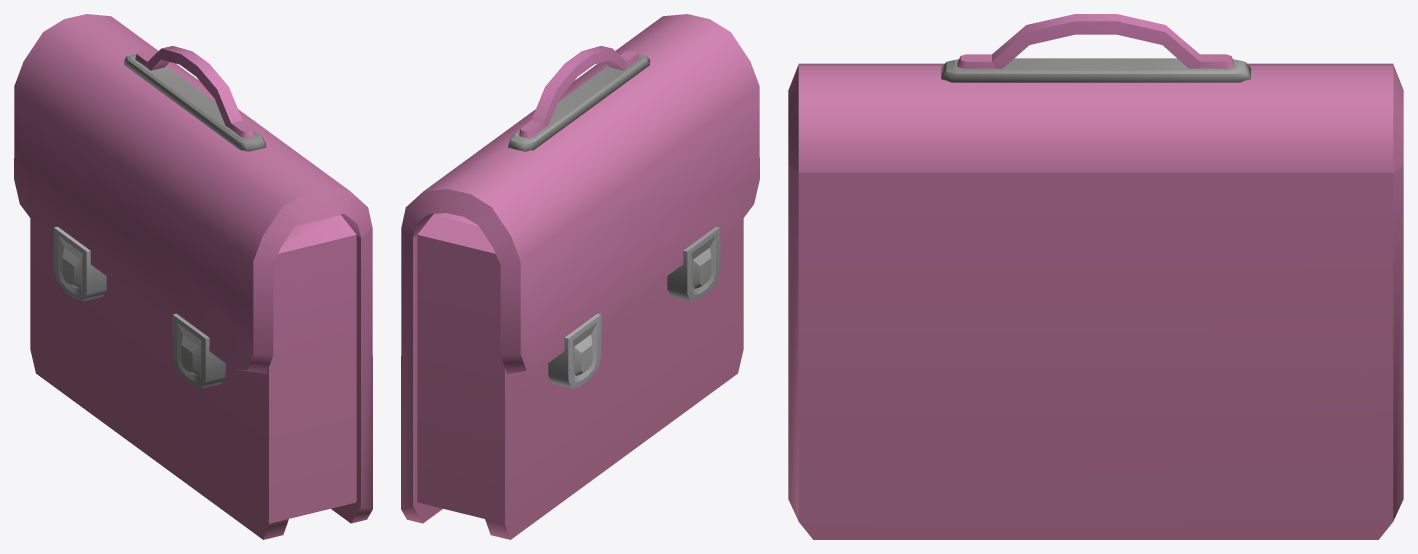
The model's file is Suitcase_1_1_C.fbx.
The picture shows the model from 3 angles, left to right: view 1: azimuth 30°, elevation 25°; view 2: azimuth 150°, elevation 25°; view 3: azimuth 270°, elevation 25°; orthographic projection. The views are drawn at different scales.
Visible parts, largest first — view 1: Suitcase_1_1_C; view 2: Suitcase_1_1_C; view 3: Suitcase_1_1_C.
Part boxes in pixels (<box>): Suitcase_1_1_C: <box>14,14,372,539</box>; Suitcase_1_1_C: <box>401,14,759,539</box>; Suitcase_1_1_C: <box>788,14,1403,539</box>.
Bounding box in the file's own units: 16.04 × 47.79 × 54.73.
